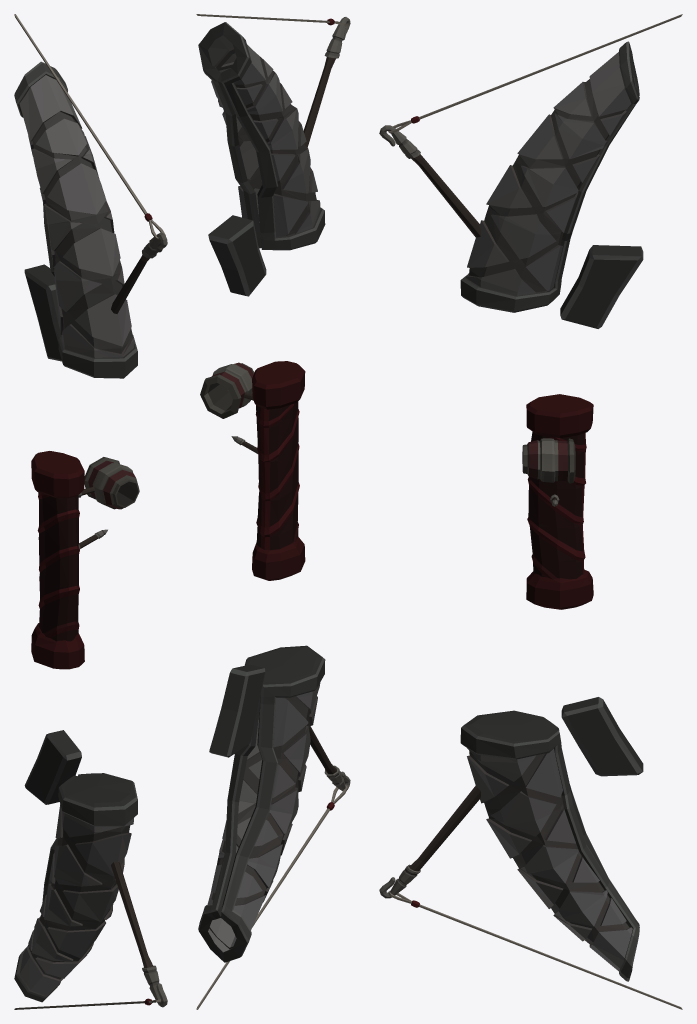
Rendered from largeBowTacticalHandle.glb.
3 renders of one model, left to right at view 1: azimuth 30°, elevation 25°; view 2: azimuth 150°, elevation 25°; view 3: azimuth 270°, elevation 25°, orthographic.
Visible parts, largest first — view 1: largeBowTacticalHandle; view 2: largeBowTacticalHandle; view 3: largeBowTacticalHandle.
Boxes of the visible parts, x1,y1,x2,y2 form: largeBowTacticalHandle: (14, 14, 167, 1009); largeBowTacticalHandle: (196, 14, 350, 1009); largeBowTacticalHandle: (379, 14, 682, 1009).
Bounding box in the file's own units: 0.1657 × 1.67 × 0.4614.
